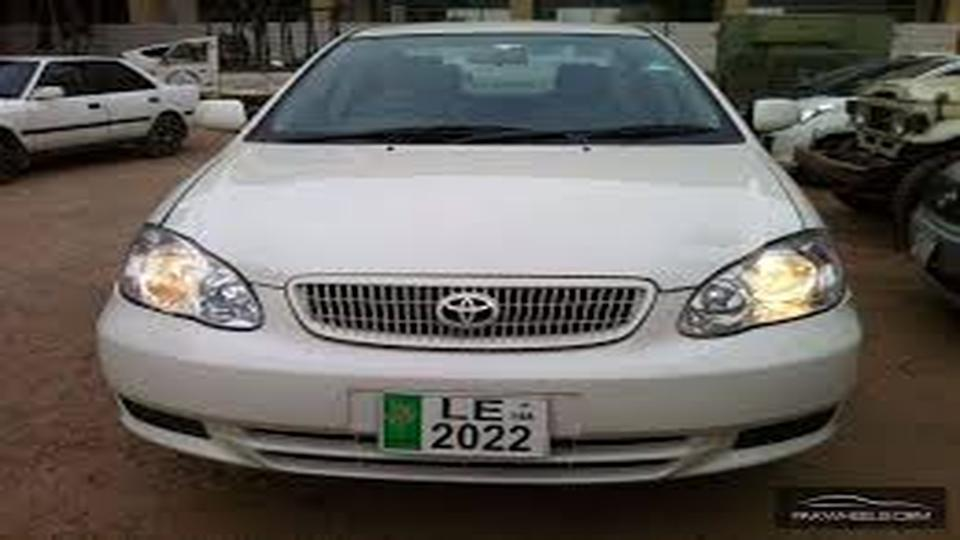NumberPlate: (383, 386, 562, 476)
